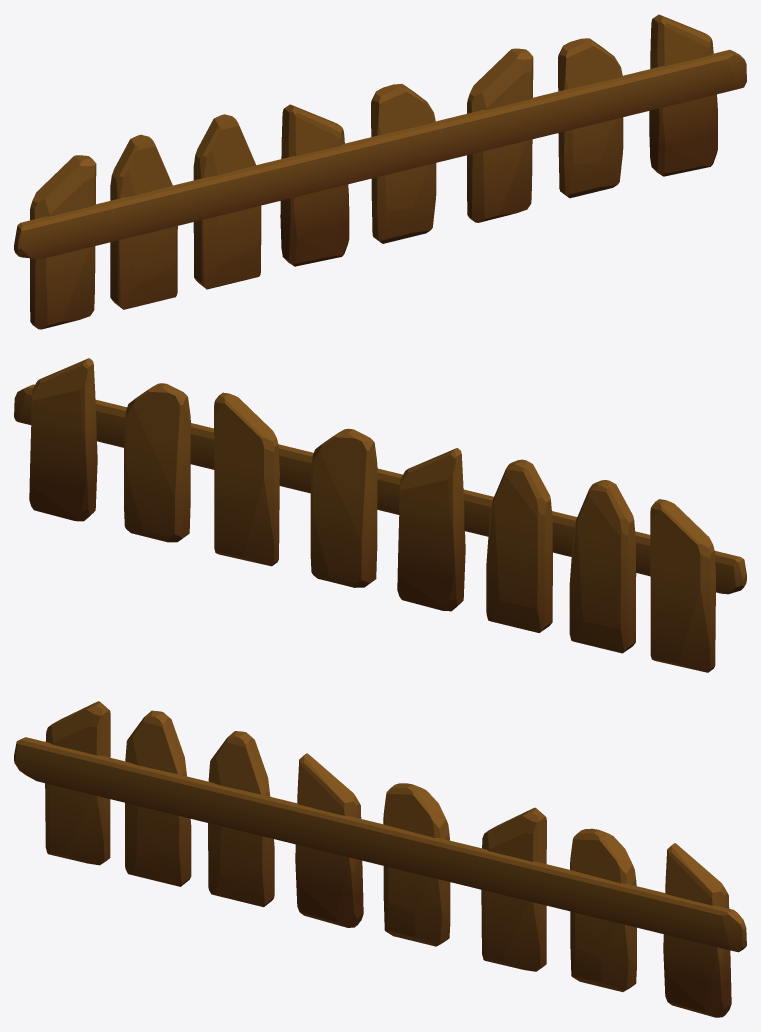
Rendered from WoodFence01.fbx.
3 renders of one model, top to bottom at view 1: azimuth 30°, elevation 25°; view 2: azimuth 150°, elevation 25°; view 3: azimuth 330°, elevation 25°, orthographic.
Visible parts, largest first — view 1: LOD0; view 2: LOD0; view 3: LOD0.
Part boxes in pixels (<box>): LOD0: <box>14,14,746,329</box>; LOD0: <box>14,358,746,672</box>; LOD0: <box>14,701,746,1017</box>.
Size of what is drawn, in the model's own units: 719 by 27.18 by 154.
